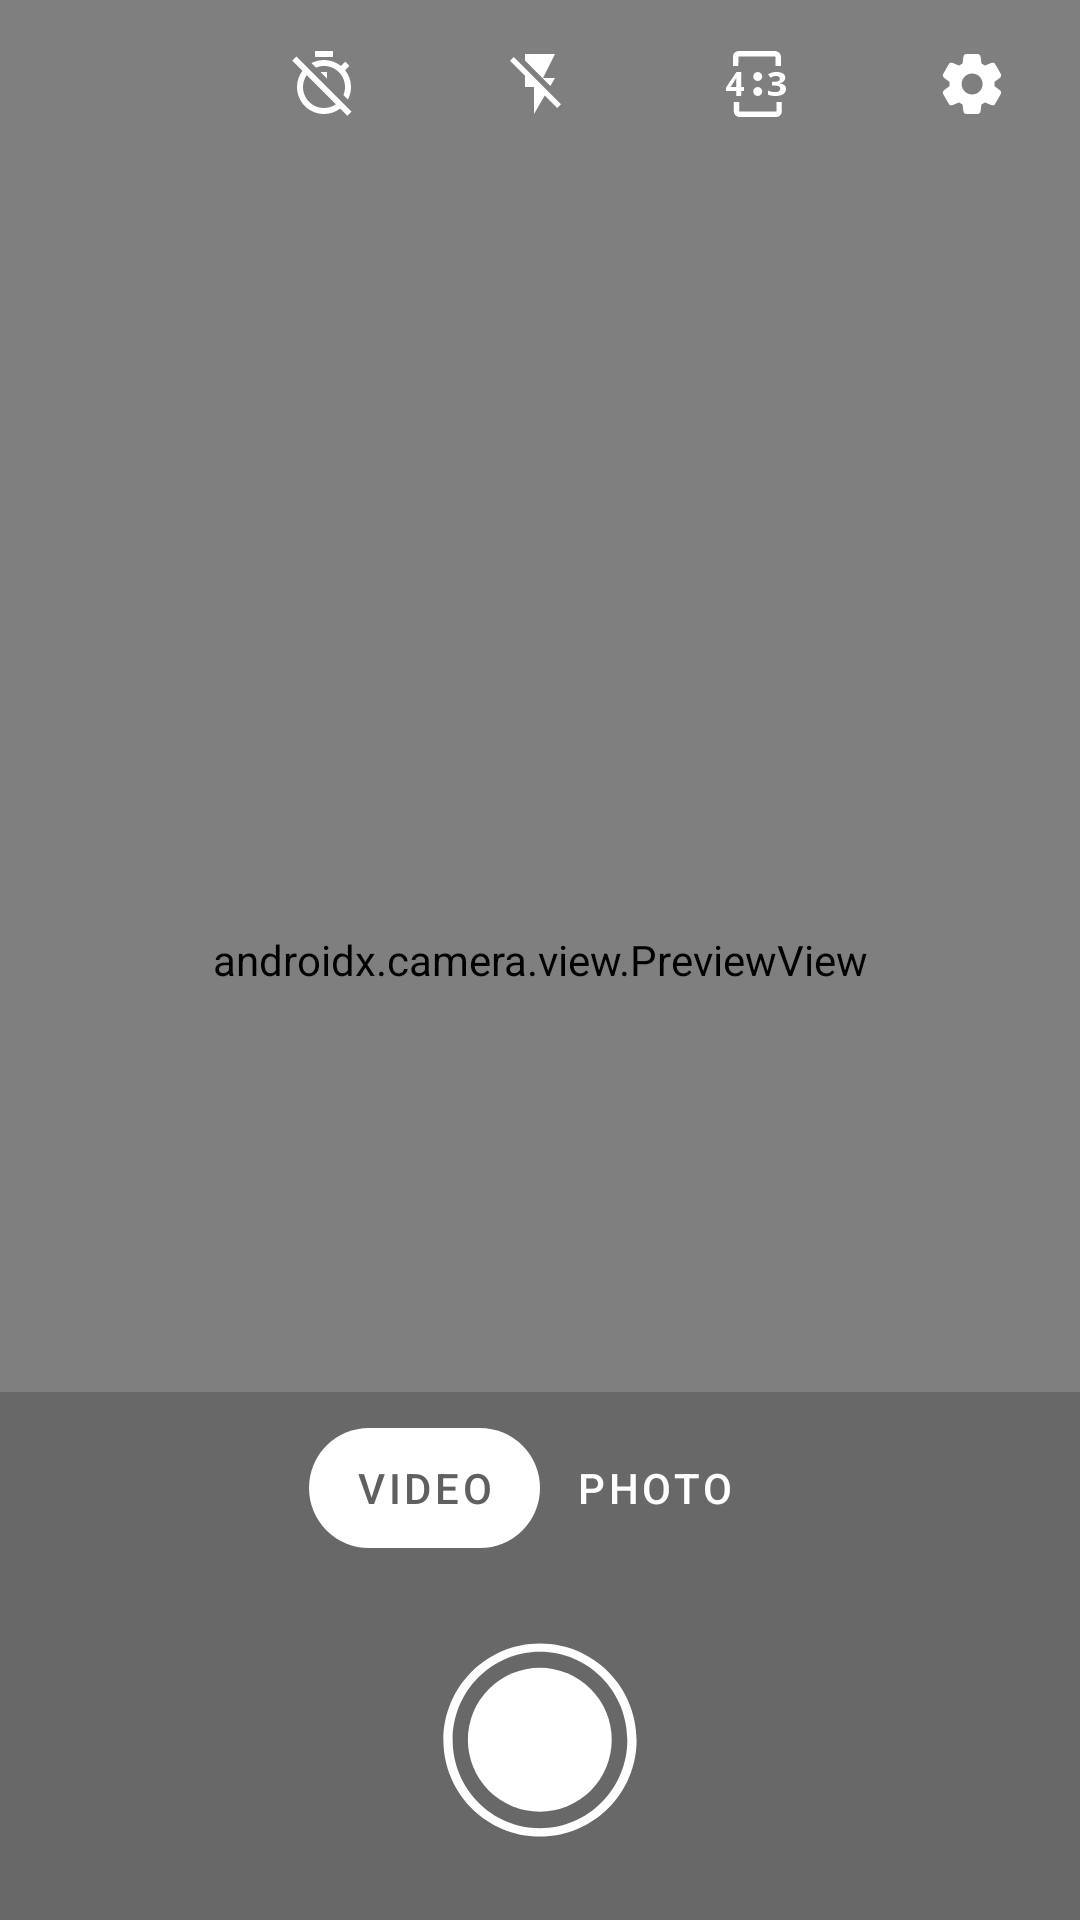

Icons on this 1080 × 1920 Android screen, each with the point to tap as (x,y):
camlib settings: (972,84)
Shutter: (540,1740)
Toggle the flashlight mode: (535,84)
Toggle the timer mode: (322,83)
